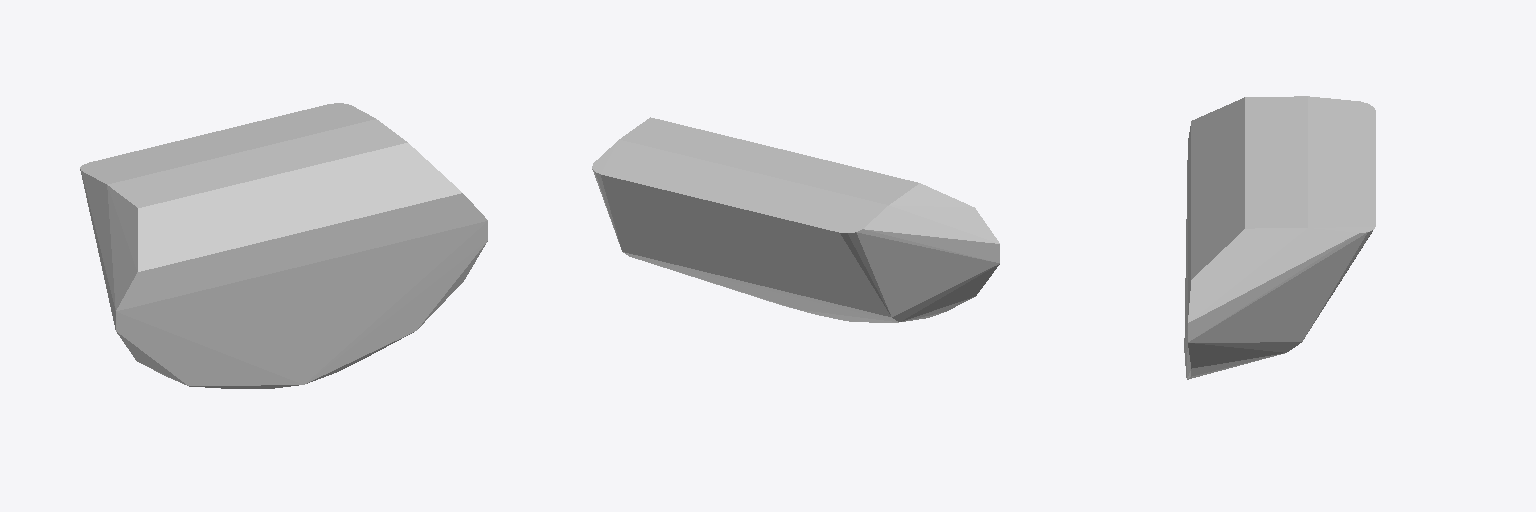
Rendered from M103 Rear_plate.obj.
3 renders of one model, left to right at view 1: azimuth 30°, elevation 25°; view 2: azimuth 150°, elevation 25°; view 3: azimuth 270°, elevation 25°, orthographic.
Parts seen in each view (by area): view 1: Rear_plate_american\A66_M103\normal\l\Hull.pri~11~5.010; view 2: Rear_plate_american\A66_M103\normal\l\Hull.pri~11~5.010; view 3: Rear_plate_american\A66_M103\normal\l\Hull.pri~11~5.010.
Boxes of the visible parts, <box> form: Rear_plate_american\A66_M103\normal\l\Hull.pri~11~5.010: <box>80,103,487,388</box>; Rear_plate_american\A66_M103\normal\l\Hull.pri~11~5.010: <box>592,117,999,322</box>; Rear_plate_american\A66_M103\normal\l\Hull.pri~11~5.010: <box>1184,96,1375,379</box>.
Bounding box in the file's own units: 117 × 56.13 × 51.86.